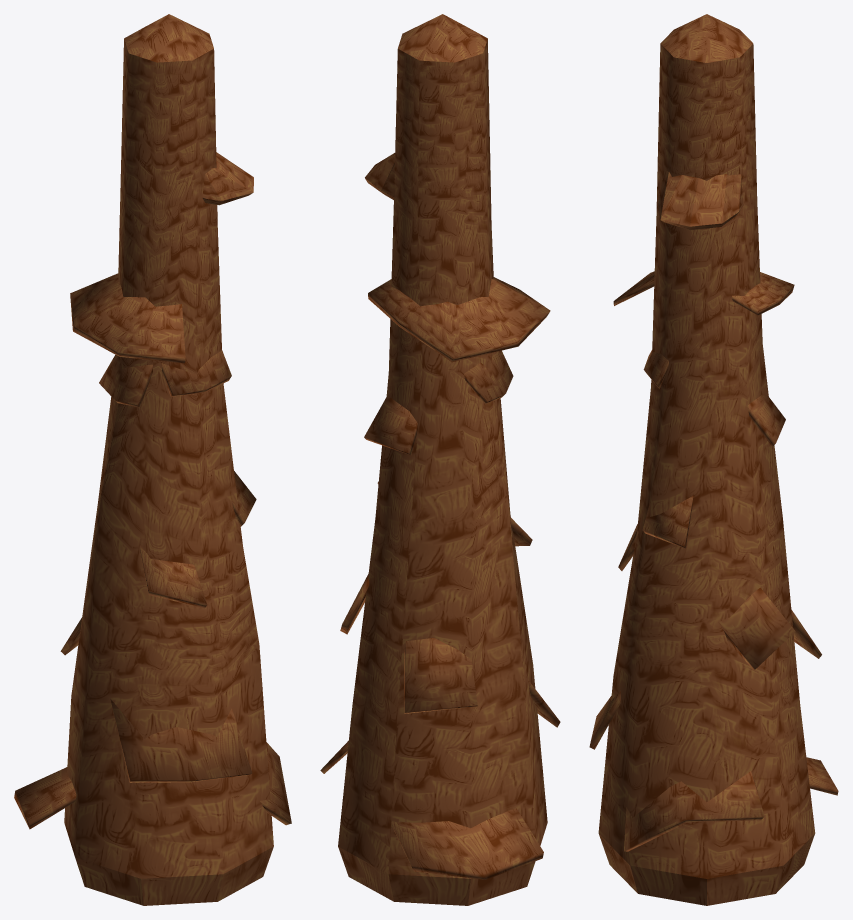
The model's file is VEG_TRE_Palm_Col.FBX.
The picture shows the model from 3 angles, left to right: view 1: azimuth 30°, elevation 25°; view 2: azimuth 150°, elevation 25°; view 3: azimuth 270°, elevation 25°; orthographic projection.
Visible parts, largest first — view 1: VEG_TRE_Palm_Col; view 2: VEG_TRE_Palm_Col; view 3: VEG_TRE_Palm_Col.
Part boxes in pixels (box(x1,y1,x2,y2)): VEG_TRE_Palm_Col: box(14, 14, 291, 905); VEG_TRE_Palm_Col: box(320, 14, 560, 905); VEG_TRE_Palm_Col: box(589, 14, 838, 905).
Bounding box in the file's own units: 554 × 2054 × 545.
